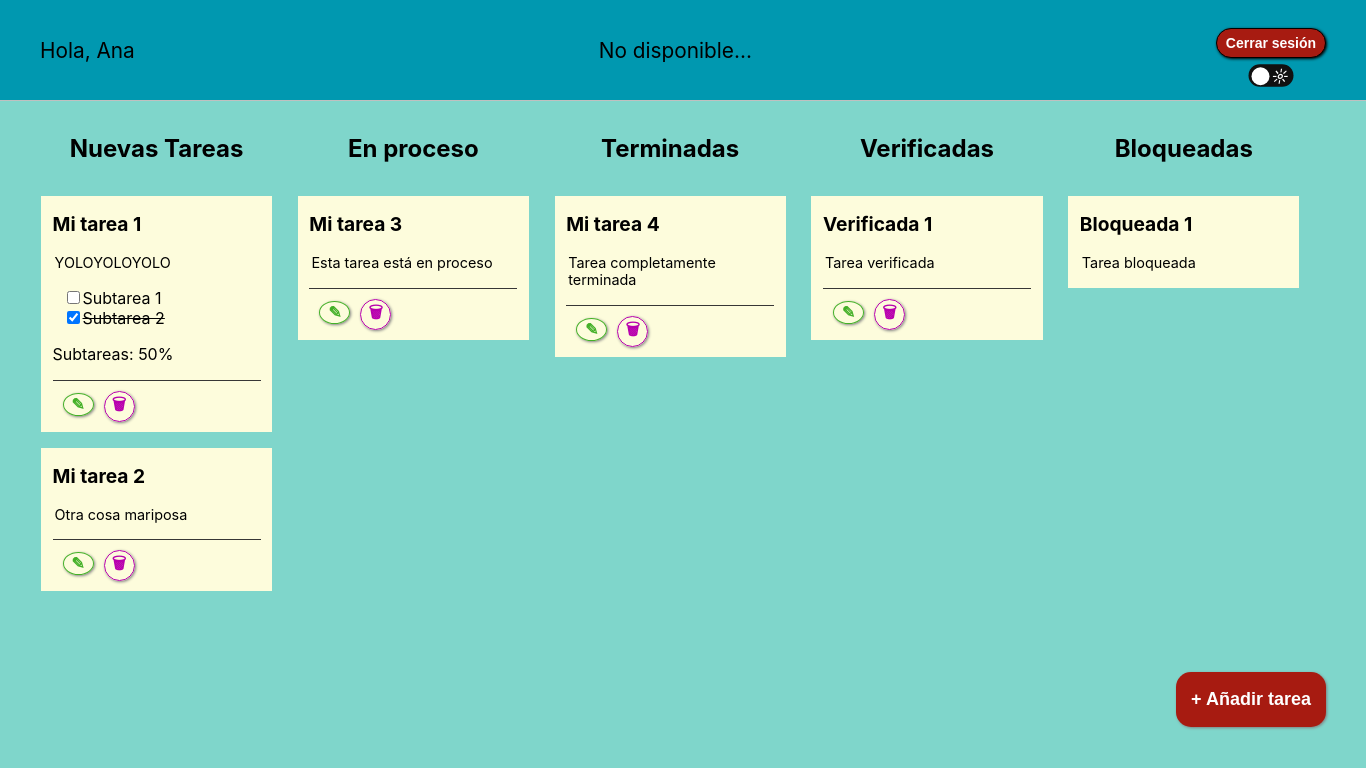
Test: Task creation › new task creation adding and removing subtasks
Click the button with test id "btnNuevaTarea".
click(1251, 700)  # box [1176,672,1326,727]
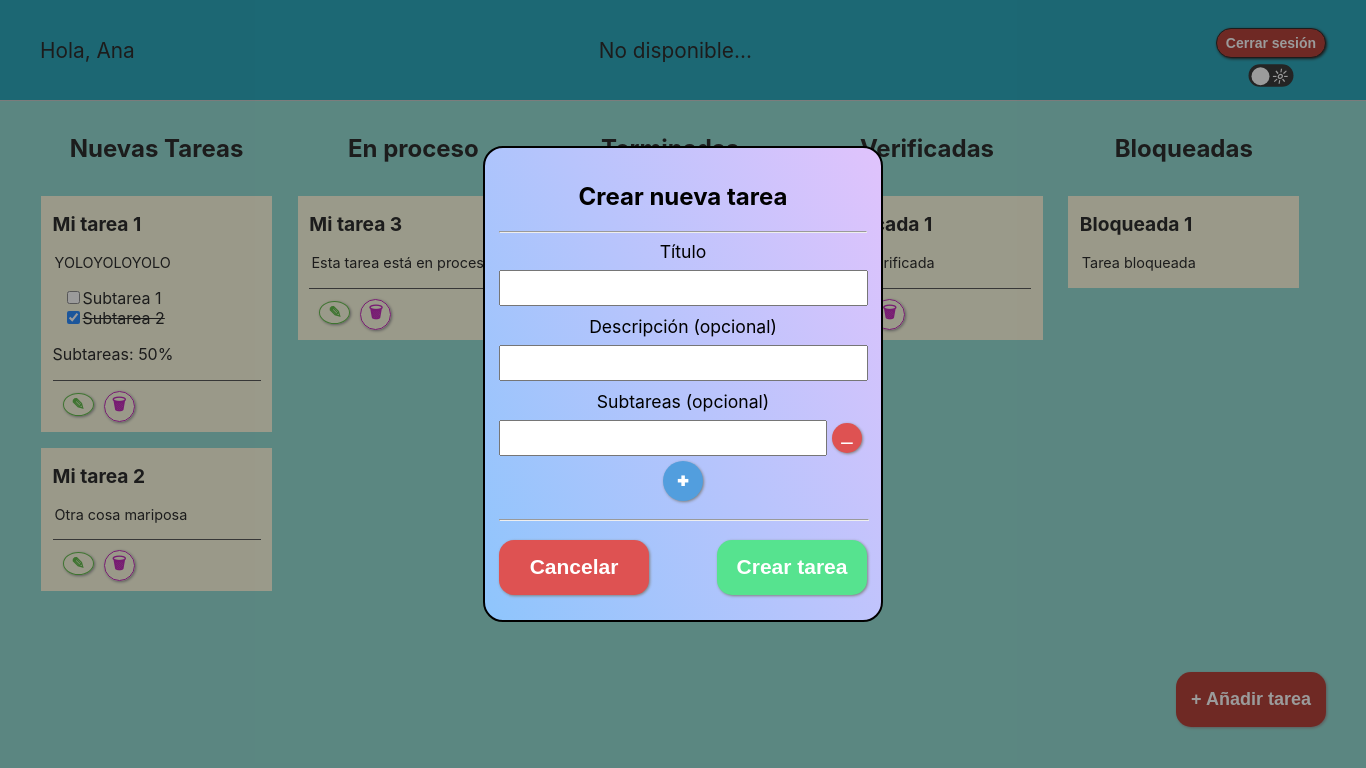
Type "Nuevo título" into the field with test id "input-titulo".
click(684, 288); type("Nuevo título")  # box [499,270,868,306]
Type "Nueva descripción" into the field with test id "input-descripcion".
click(684, 363); type("Nueva descripción")  # box [499,345,868,381]
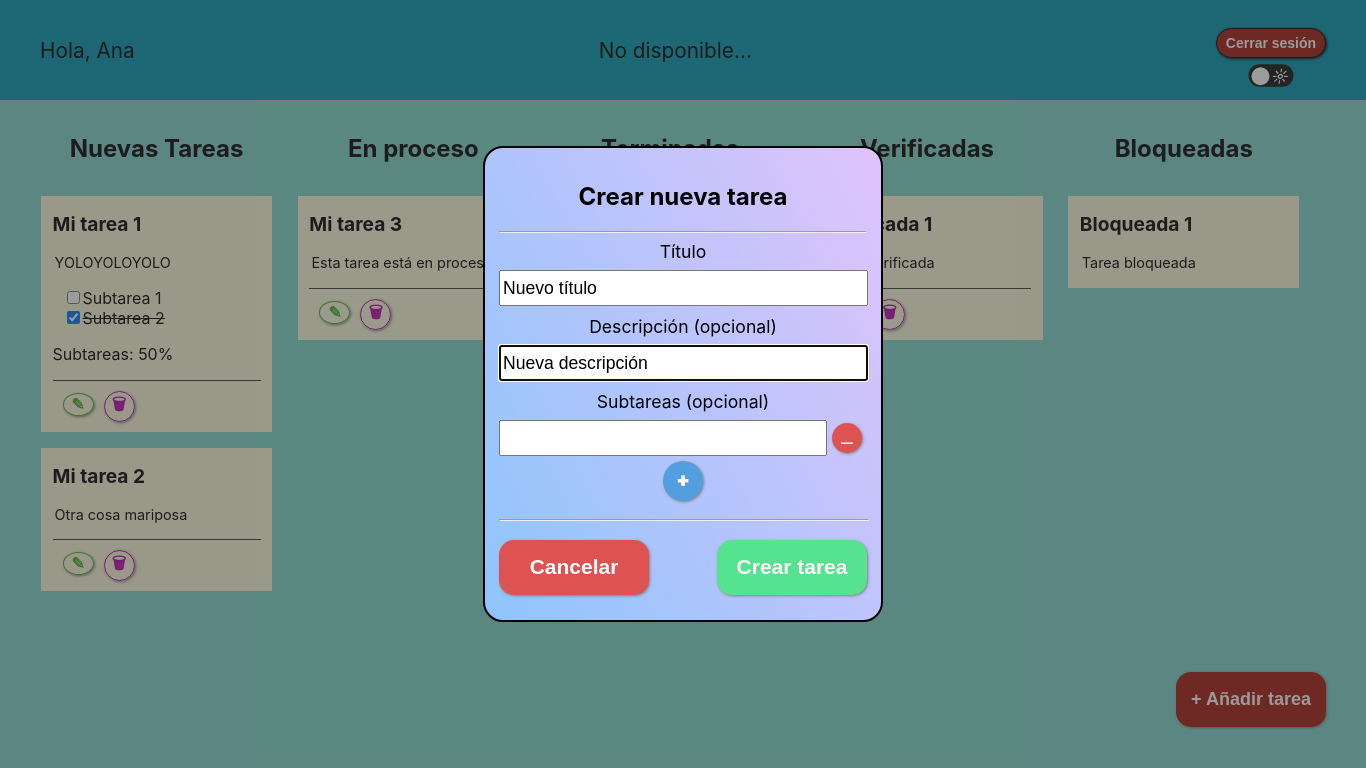
Type "Sub 1" into the field with test id "subtareas[0".
click(663, 438); type("Sub 1")  # box [499,420,827,456]
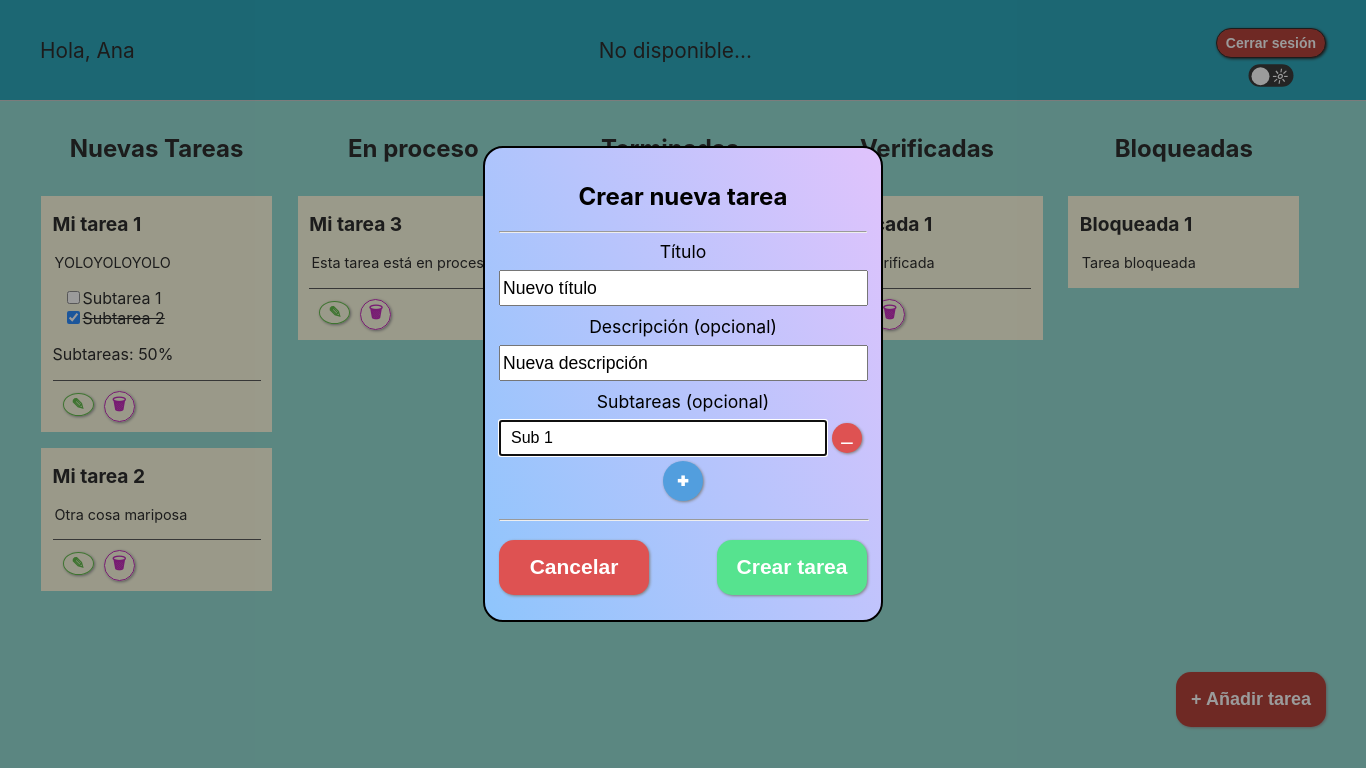
Click the button with test id "btn-add".
click(683, 481)  # box [663,461,703,501]
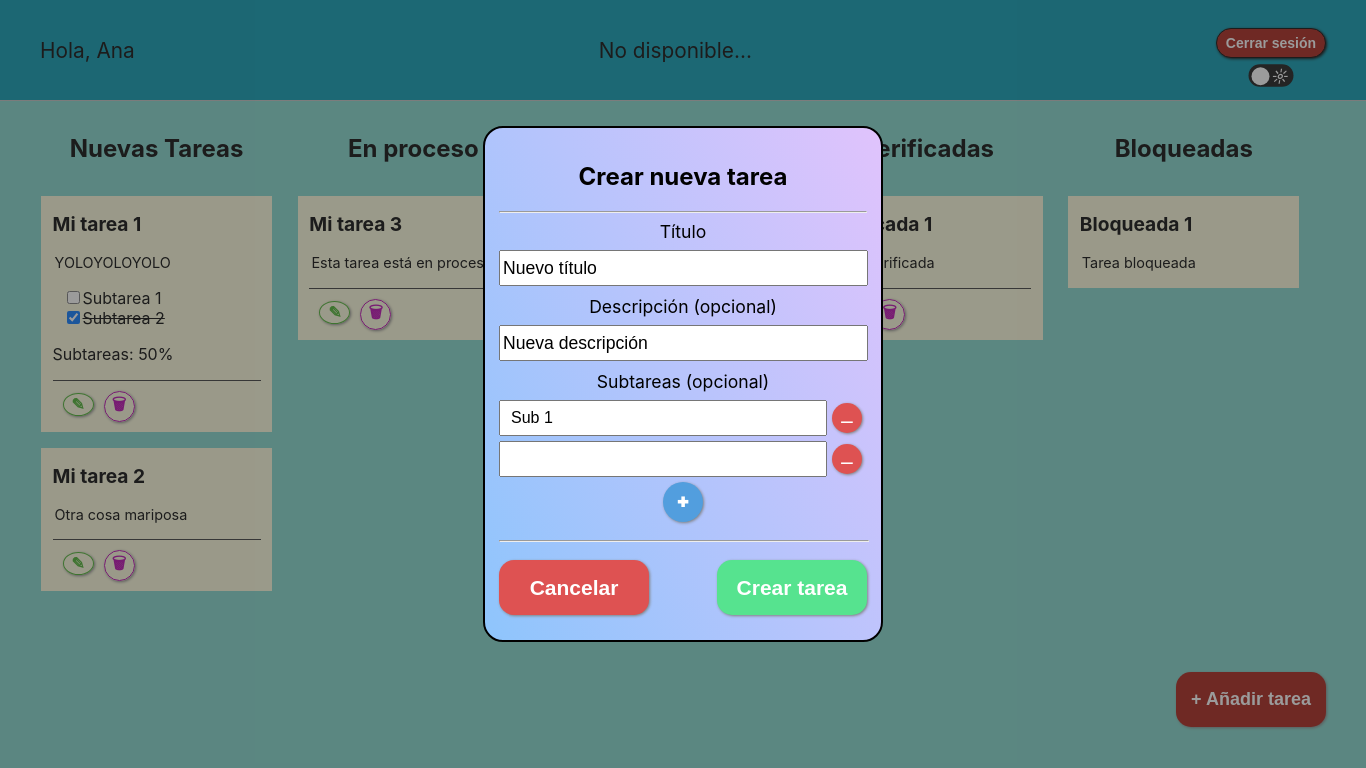
Type "Sub 2" into the field with test id "subtareas[1".
click(663, 459); type("Sub 2")  # box [499,441,827,477]
Click the button with test id "btn-remove0".
click(847, 418)  # box [832,403,862,433]
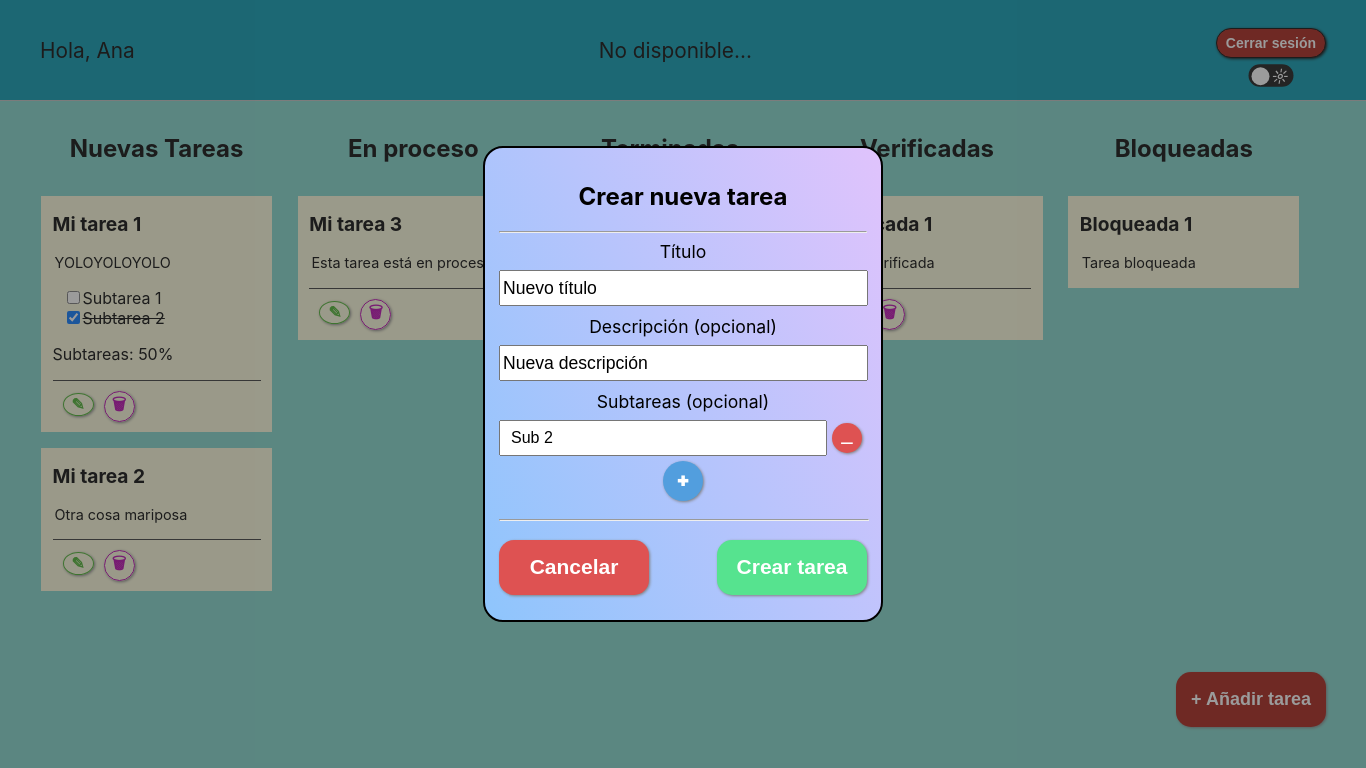
Click the button with test id "btn-create".
click(792, 568)  # box [717,540,867,595]
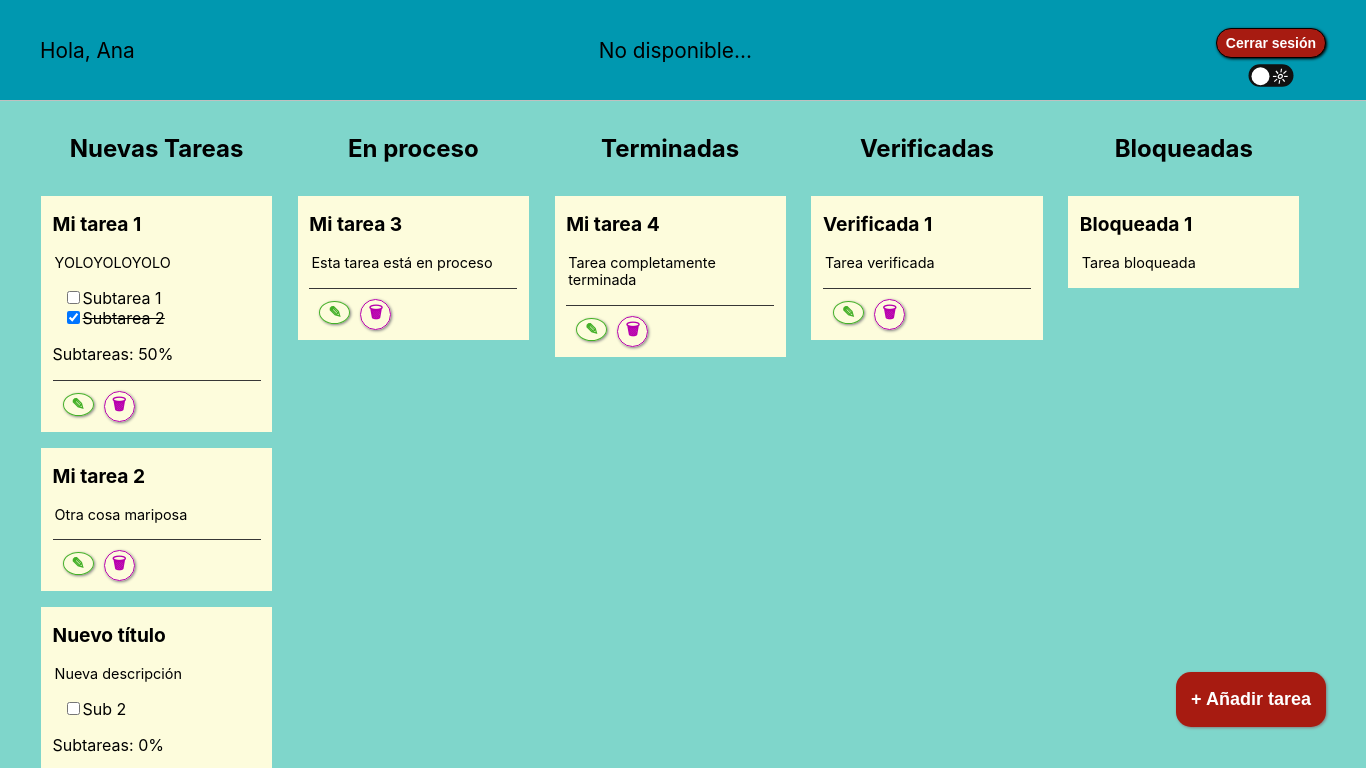
Check: the text "Sub 1" is not shown
Check: the text "Sub 2" is shown, box [62,699,126,719]
